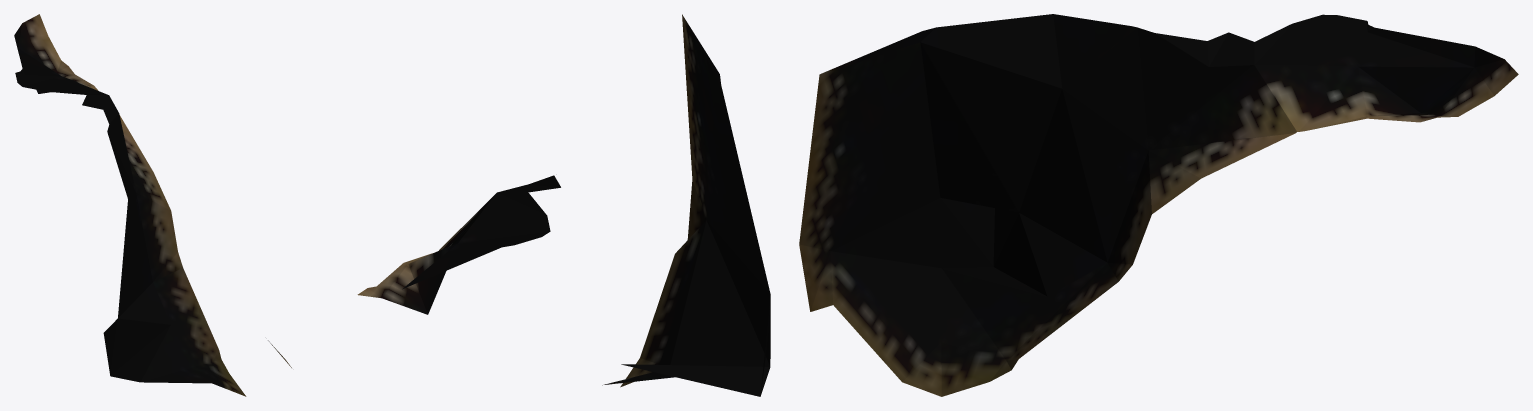
The picture shows the model from 3 angles, left to right: view 1: azimuth 30°, elevation 25°; view 2: azimuth 150°, elevation 25°; view 3: azimuth 270°, elevation 25°; orthographic projection. The views are drawn at different scales.
Bounding box in the file's own units: 0.1615 × 0.2883 × 0.5829.
Materials: 1 (1 with a texture image).
